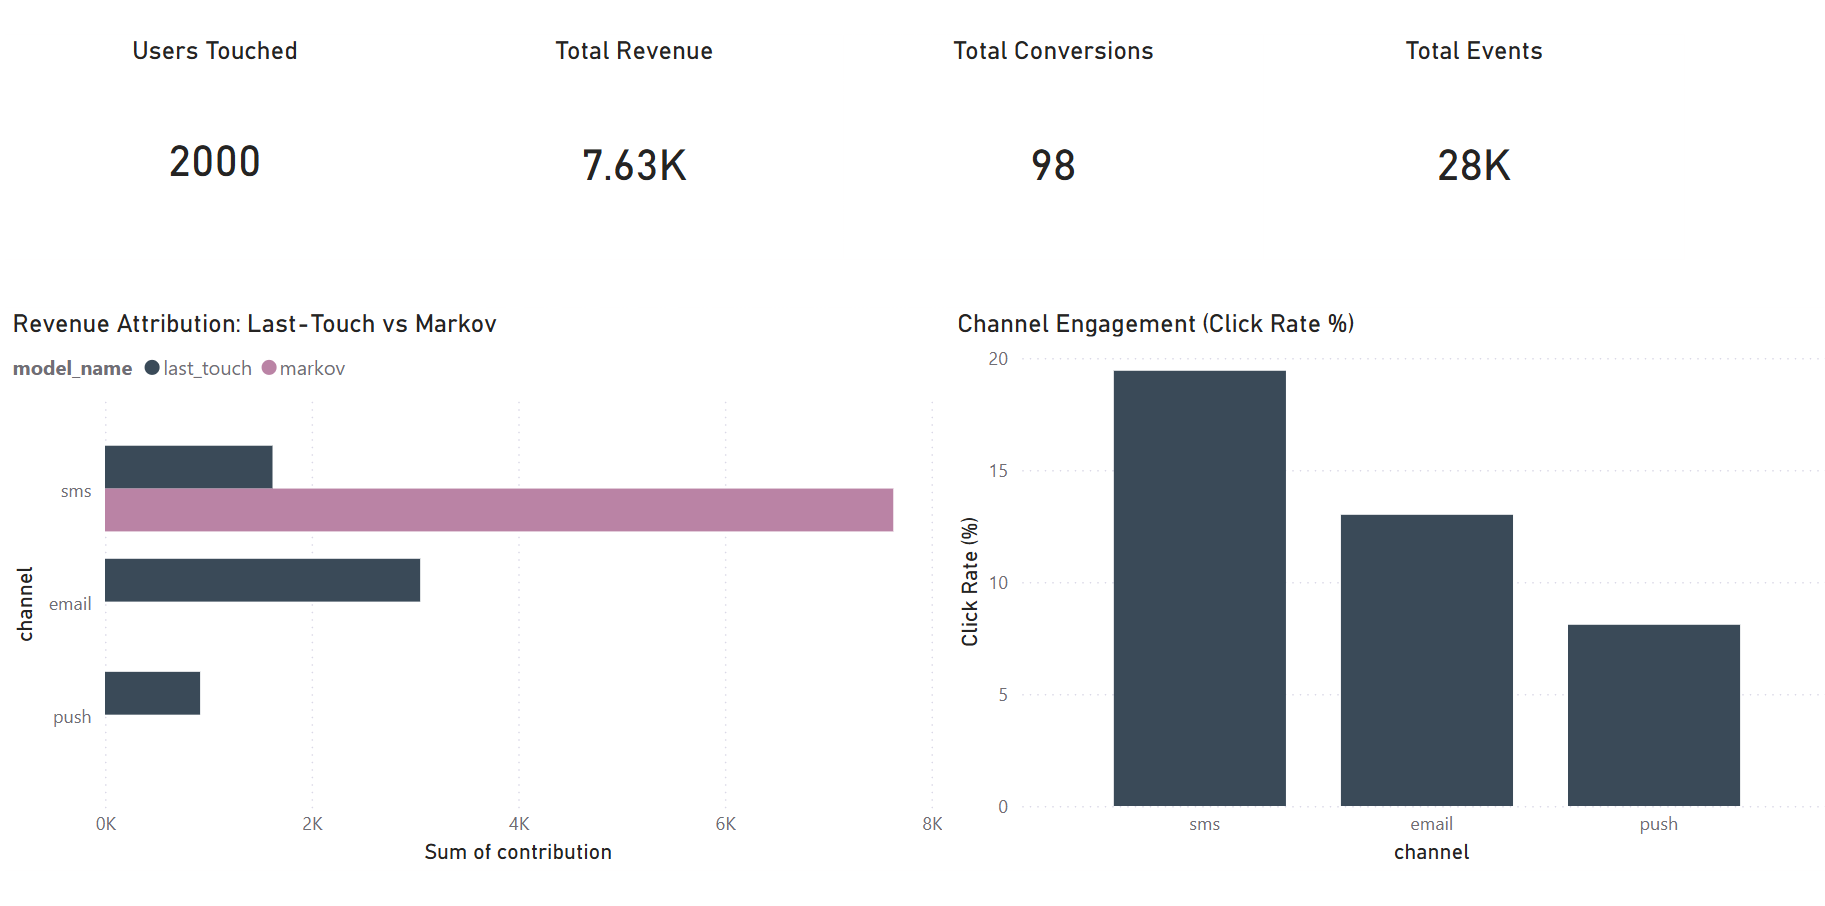

Layout of this report page (visuals, bound fields, positions):
{"tool":"powerbi","page":{"name":"Page 1","canvas":[1280,720],"ordinal":0},"visuals":[{"type":"card","title":"Users Touched","fields":{"Values":["Sum(public v_kpi_topline.users_touched)"]},"box":[10,0,280,150],"z":0},{"type":"card","title":"Total Conversions","fields":{"Values":["Sum(public v_kpi_topline.total_conversions)"]},"box":[569,0,280,150],"z":1000},{"type":"card","title":"Total Events","fields":{"Values":["Sum(public v_kpi_topline.total_events)"]},"box":[849.4,0,280.6,149.5],"z":2000},{"type":"card","title":"Total Revenue","fields":{"Values":["Sum(public v_kpi_topline.total_revenue)"]},"box":[290,0,279,150],"z":3000},{"type":"clusteredBarChart","title":"Revenue Attribution: Last-Touch vs Markov","fields":{"Category":["public v_attribution_latest.channel"],"Y":["Sum(public v_attribution_latest.contribution)"],"Series":["public v_attribution_latest.model_name"]},"box":[10,223,630,375],"z":4000},{"type":"clusteredColumnChart","title":"Channel Engagement (Click Rate %)","fields":{"Category":["public v_channel_event_summary.channel"],"Y":["Avg(public v_channel_event_summary.click_rate_pct)"]},"box":[640,223,599,375],"z":4001}]}

Visuals, with their boxes on the page's 1280x720 design canvas (x1, y1, x2, y2). These are canvas units, not pixel positions in the 1825x906 screenshot, which may show the page scaled, cropped or inside an application window:
"Users Touched" card: 10, 0, 290, 150
"Total Conversions" card: 569, 0, 849, 150
"Total Events" card: 849, 0, 1130, 150
"Total Revenue" card: 290, 0, 569, 150
"Revenue Attribution: Last-Touch vs Markov" clusteredBarChart: 10, 223, 640, 598
"Channel Engagement (Click Rate %)" clusteredColumnChart: 640, 223, 1239, 598
